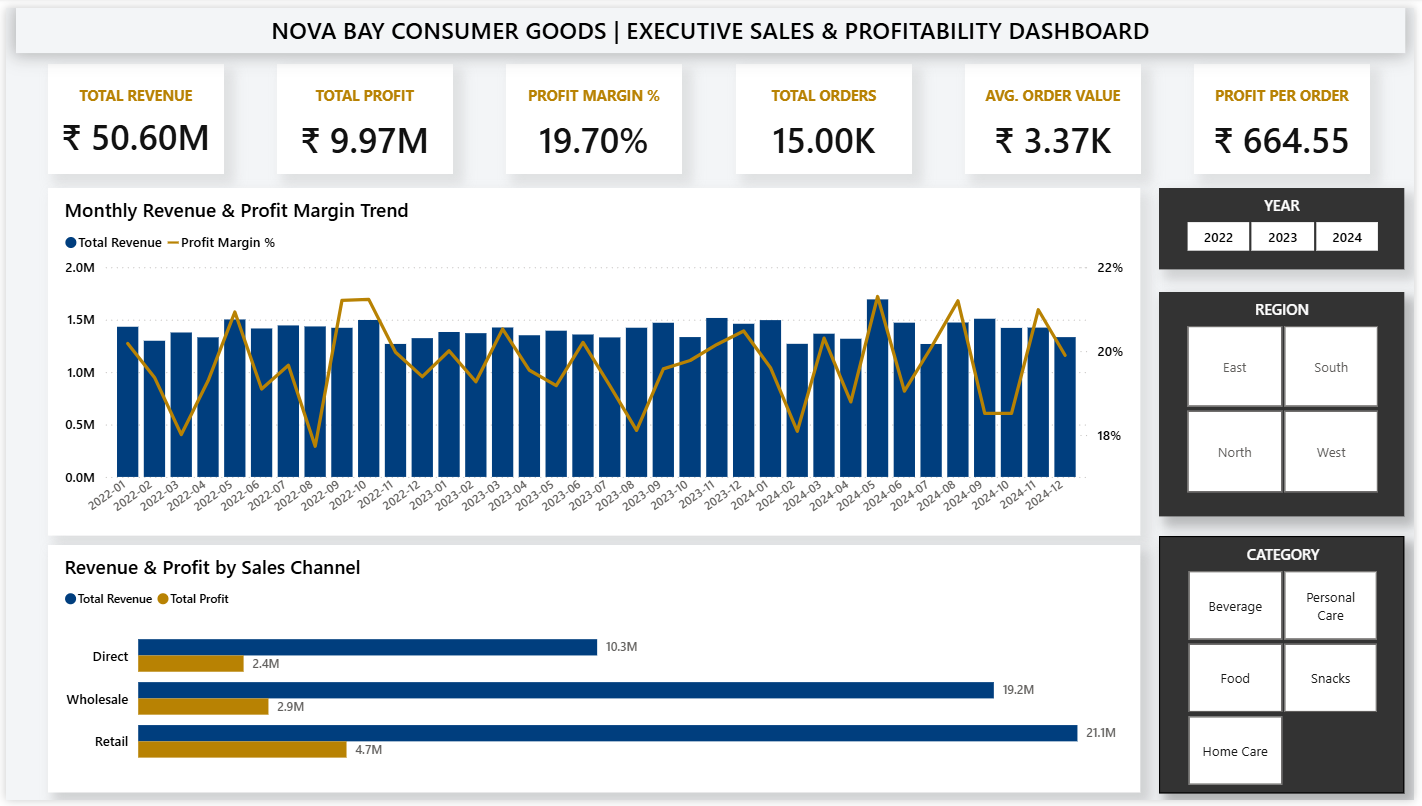

Layout of this report page (visuals, bound fields, positions):
{"tool":"powerbi","page":{"name":"Executive Overview","canvas":[1280,720],"ordinal":0},"visuals":[{"type":"card","title":"TOTAL REVENUE","fields":{"Values":["_Measures.Total Revenue"]},"box":[38.1,50.5,159.6,100.2],"z":0},{"type":"card","title":"TOTAL PROFIT","fields":{"Values":["_Measures.Total Profit"]},"box":[246.5,50.5,159.6,100.2],"z":1000},{"type":"card","title":"PROFIT MARGIN %","fields":{"Values":["_Measures.Profit Margin %"]},"box":[454.9,50.5,159.6,100.2],"z":2000},{"type":"card","title":"TOTAL ORDERS","fields":{"Values":["_Measures.Total Orders"]},"box":[663.3,50.5,159.6,100.2],"z":3000},{"type":"card","title":"AVG. ORDER VALUE","fields":{"Values":["_Measures.Avg Order Value"]},"box":[871.6,50.5,159.6,100.2],"z":4000},{"type":"card","title":"PROFIT PER ORDER","fields":{"Values":["_Measures.Profit Per Order"]},"box":[1080,50.5,159.6,100.2],"z":5000},{"type":"lineStackedColumnComboChart","title":"Monthly Revenue & Profit Margin Trend","fields":{"Y":["_Measures.Total Revenue"],"Y2":["_Measures.Profit Margin %"],"Category":["dim_date.Year-Month"]},"box":[38.1,164,993.1,315.7],"z":6000},{"type":"clusteredBarChart","title":"Revenue & Profit by Sales Channel","fields":{"Category":["novabay_db fact_sales.sales_channel"],"Y":["_Measures.Total Revenue","_Measures.Total Profit"]},"box":[38.1,488.6,993.1,225.2],"z":7000},{"type":"slicer","title":"YEAR","fields":{"Values":["dim_date.Year"]},"box":[1048.1,164,223.4,74.5],"z":8000},{"type":"slicer","title":"REGION","fields":{"Values":["novabay_db fact_sales.region"]},"box":[1048.1,258,223.4,203.9],"z":9000},{"type":"slicer","title":"CATEGORY","fields":{"Values":["novabay_db fact_sales.category"]},"box":[1048.1,479.7,223.4,234.1],"z":10000},{"type":"textbox","box":[8.9,0,1262.7,40.8],"z":11000}]}

Visuals, with their boxes in screenshot pixels (x1, y1, x2, y2), scaled from the page's 1280x720 canvas onto the 1422x806 screenshot:
"TOTAL REVENUE" card: <region>42, 57, 220, 169</region>
"TOTAL PROFIT" card: <region>274, 57, 451, 169</region>
"PROFIT MARGIN %" card: <region>505, 57, 683, 169</region>
"TOTAL ORDERS" card: <region>737, 57, 914, 169</region>
"AVG. ORDER VALUE" card: <region>968, 57, 1146, 169</region>
"PROFIT PER ORDER" card: <region>1200, 57, 1377, 169</region>
"Monthly Revenue & Profit Margin Trend" lineStackedColumnComboChart: <region>42, 184, 1146, 537</region>
"Revenue & Profit by Sales Channel" clusteredBarChart: <region>42, 547, 1146, 799</region>
"YEAR" slicer: <region>1164, 184, 1413, 267</region>
"REGION" slicer: <region>1164, 289, 1413, 517</region>
"CATEGORY" slicer: <region>1164, 537, 1413, 799</region>
textbox: <region>10, 0, 1413, 46</region>
